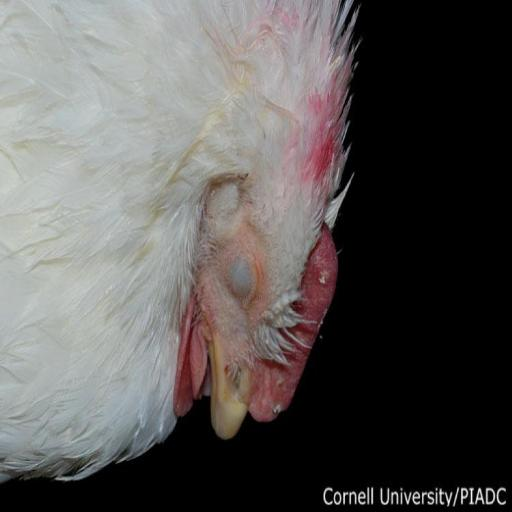disease: (210, 169, 309, 387)
